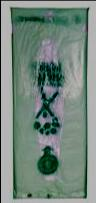Plastic: (3, 1, 91, 201)
